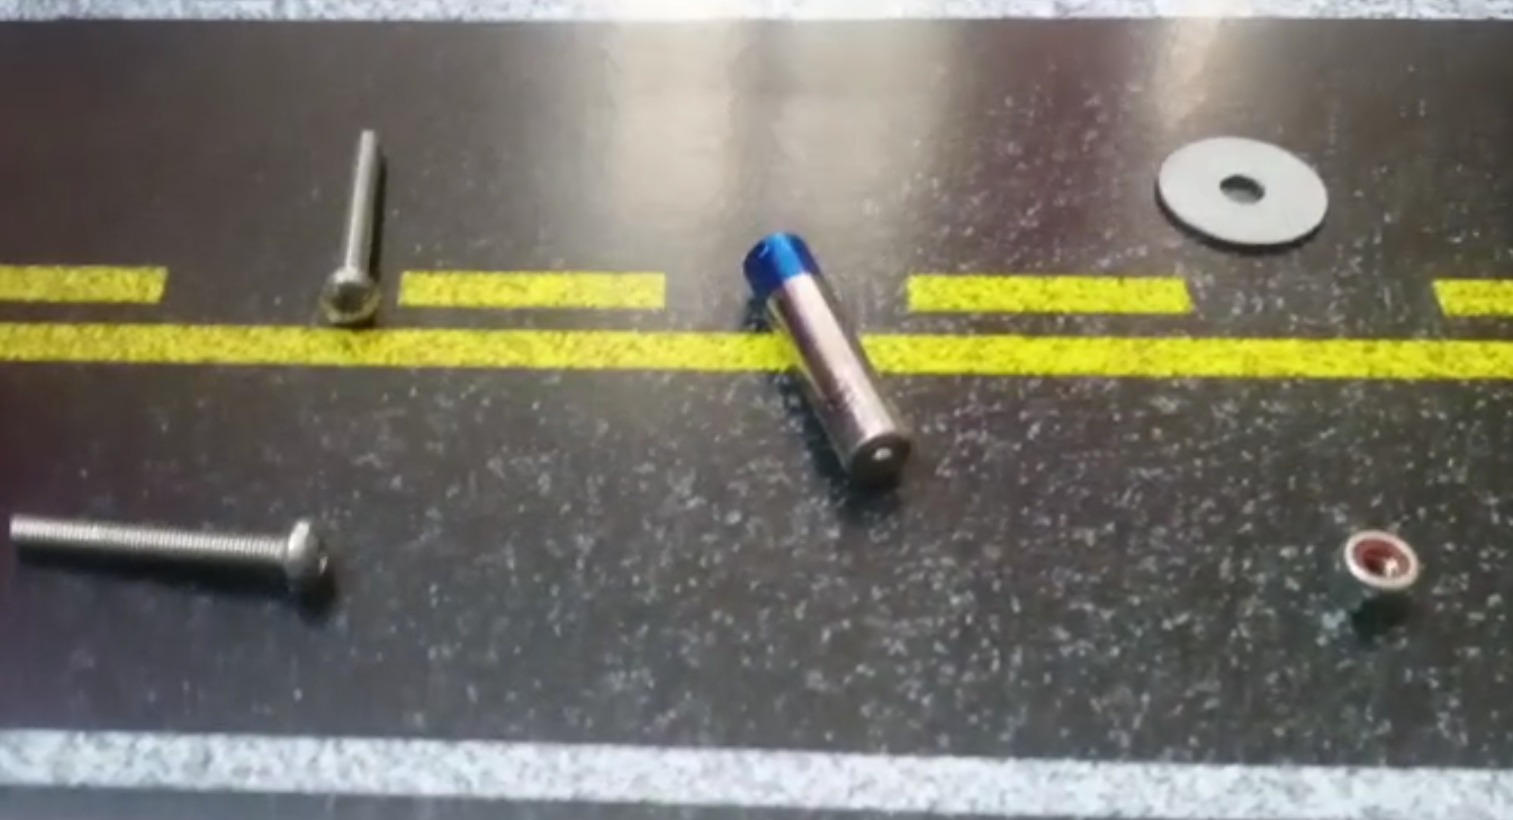metal: (722, 229, 920, 493), (5, 487, 343, 609), (1152, 130, 1335, 257), (316, 116, 393, 329), (1330, 519, 1423, 618)
